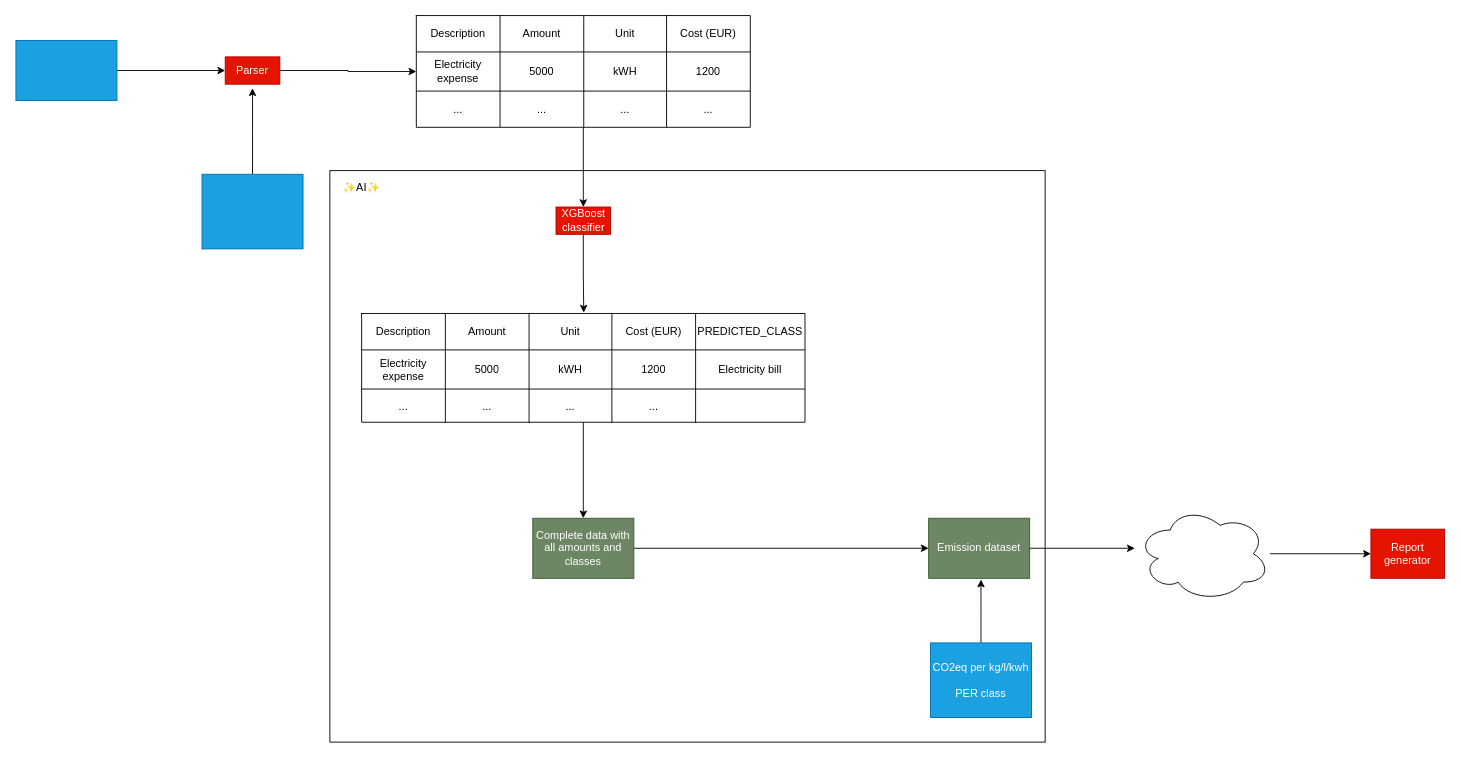
This 1461x759 diagram has some shape labels left out. Each missing label, with the centre of its shape:
"Cash flow statement" goes at point 66,70.
"Financial magic" goes at point 1203,553.
"kwh/eur l/eur kg/eur for all classes" goes at point 252,211.
